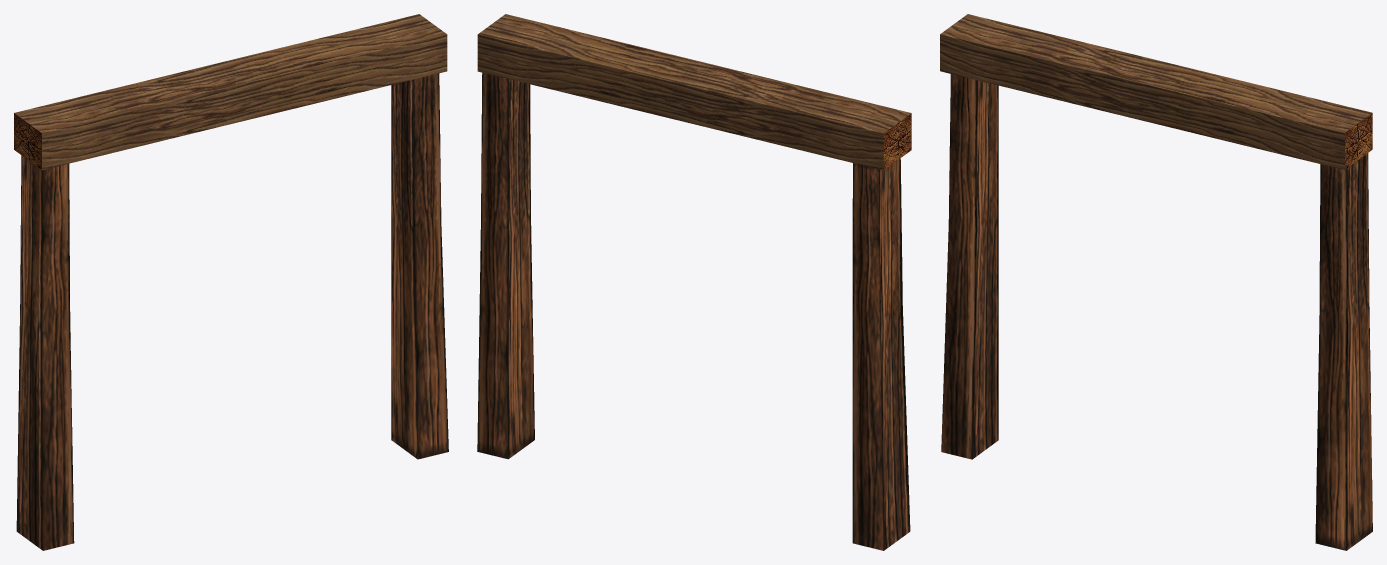
Rendered from LAKETOWN_WAREHOUSE2_PS_WH2_DOORFRAME377__GX.fbx.
3 renders of one model, left to right at view 1: azimuth 30°, elevation 25°; view 2: azimuth 150°, elevation 25°; view 3: azimuth 330°, elevation 25°, orthographic.
Parts seen in each view (by area): view 1: LAKETOWN_WAREHOUSE2_PS_WH2_DOORFRAME377__GX; view 2: LAKETOWN_WAREHOUSE2_PS_WH2_DOORFRAME377__GX; view 3: LAKETOWN_WAREHOUSE2_PS_WH2_DOORFRAME377__GX.
Boxes of the visible parts, x1,y1,x2,y2 form: LAKETOWN_WAREHOUSE2_PS_WH2_DOORFRAME377__GX: [14, 14, 448, 550]; LAKETOWN_WAREHOUSE2_PS_WH2_DOORFRAME377__GX: [477, 14, 911, 550]; LAKETOWN_WAREHOUSE2_PS_WH2_DOORFRAME377__GX: [940, 14, 1372, 550].
Size of the model in its own units: 34050 by 33420 by 4035.
Materials: 3 (3 with a texture image).
